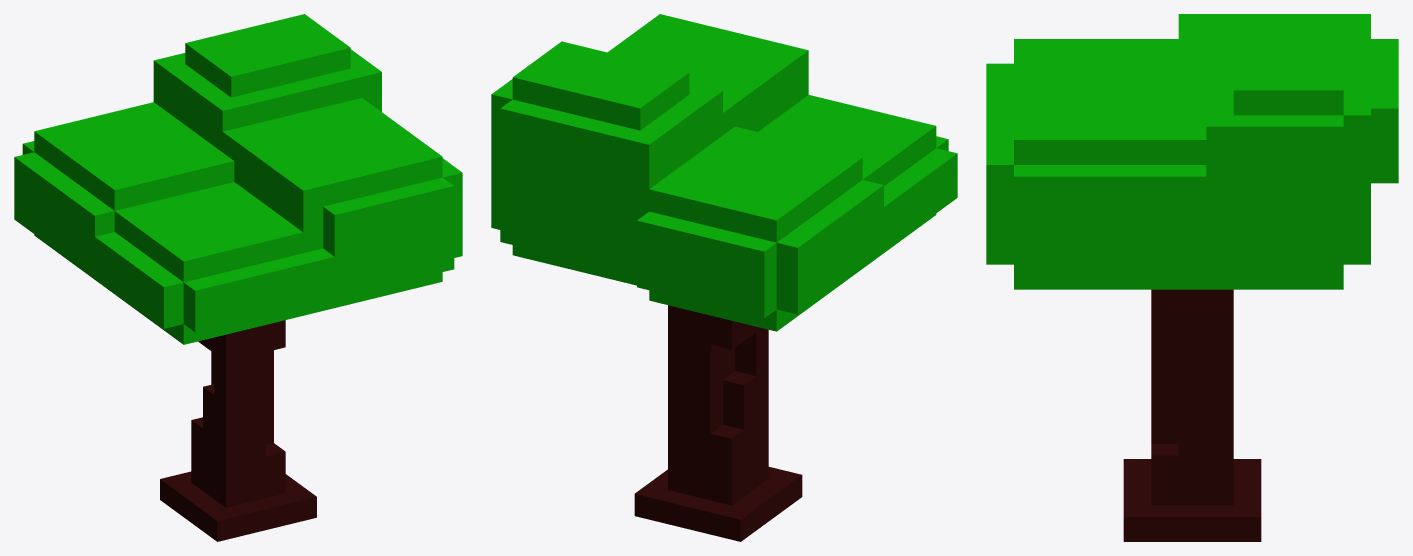
File: Tree_0_1.fbx
3 renders of one model, left to right at view 1: azimuth 30°, elevation 25°; view 2: azimuth 150°, elevation 25°; view 3: azimuth 270°, elevation 25°, orthographic. The views are drawn at different scales.
Parts seen in each view (by area): view 1: Tree_0_1; view 2: Tree_0_1; view 3: Tree_0_1.
Boxes of the visible parts, left/top/right/bottom form: Tree_0_1: left=14, top=14, right=462, bottom=541; Tree_0_1: left=491, top=14, right=957, bottom=541; Tree_0_1: left=986, top=14, right=1398, bottom=541.
Bounding box in the file's own units: 1500 × 2000 × 1500.
